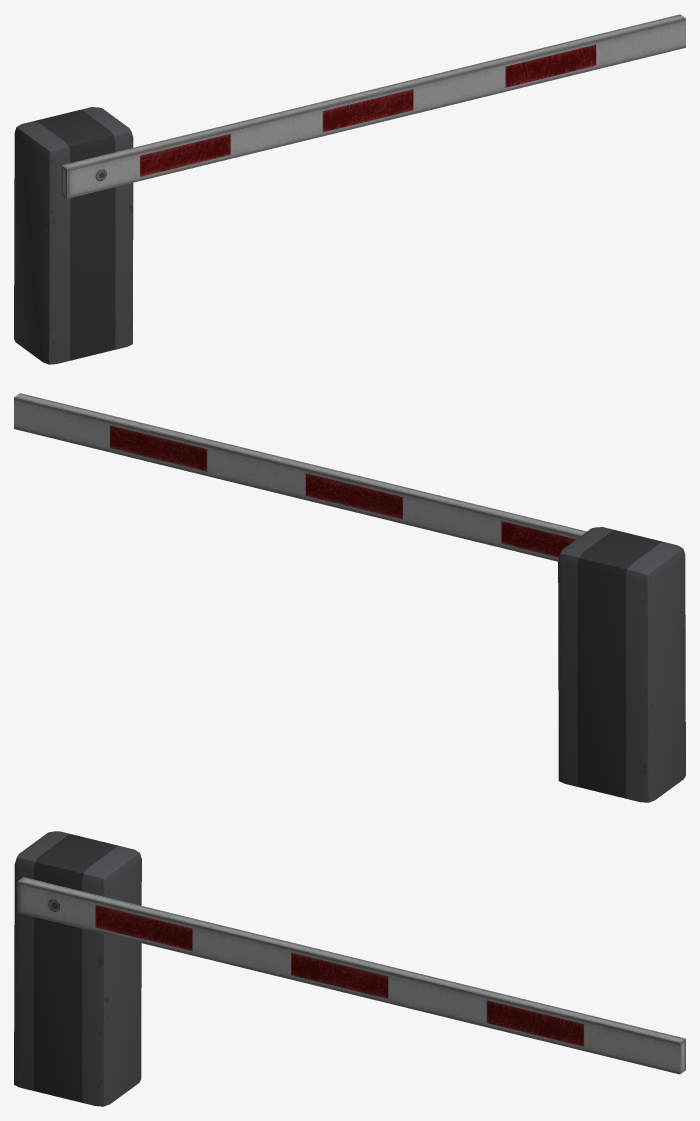
Rendered from BarrierAutomatic.FBX.
The picture shows the model from 3 angles, top to bottom: view 1: azimuth 30°, elevation 25°; view 2: azimuth 150°, elevation 25°; view 3: azimuth 330°, elevation 25°; orthographic projection. The views are drawn at different scales.
Visible parts, largest first — view 1: BarrierAutomatic, AutomaticBarierStick; view 2: BarrierAutomatic, AutomaticBarierStick; view 3: BarrierAutomatic, AutomaticBarierStick.
Part boxes in pixels (x1,y1,x2,y2): BarrierAutomatic: (14,107,133,364); AutomaticBarierStick: (61,14,685,198); BarrierAutomatic: (558,527,685,802); AutomaticBarierStick: (14,393,586,561); BarrierAutomatic: (14,831,141,1106); AutomaticBarierStick: (17,877,685,1074).
Size of the model in its own units: 97.3 by 31.69 by 11.68.
